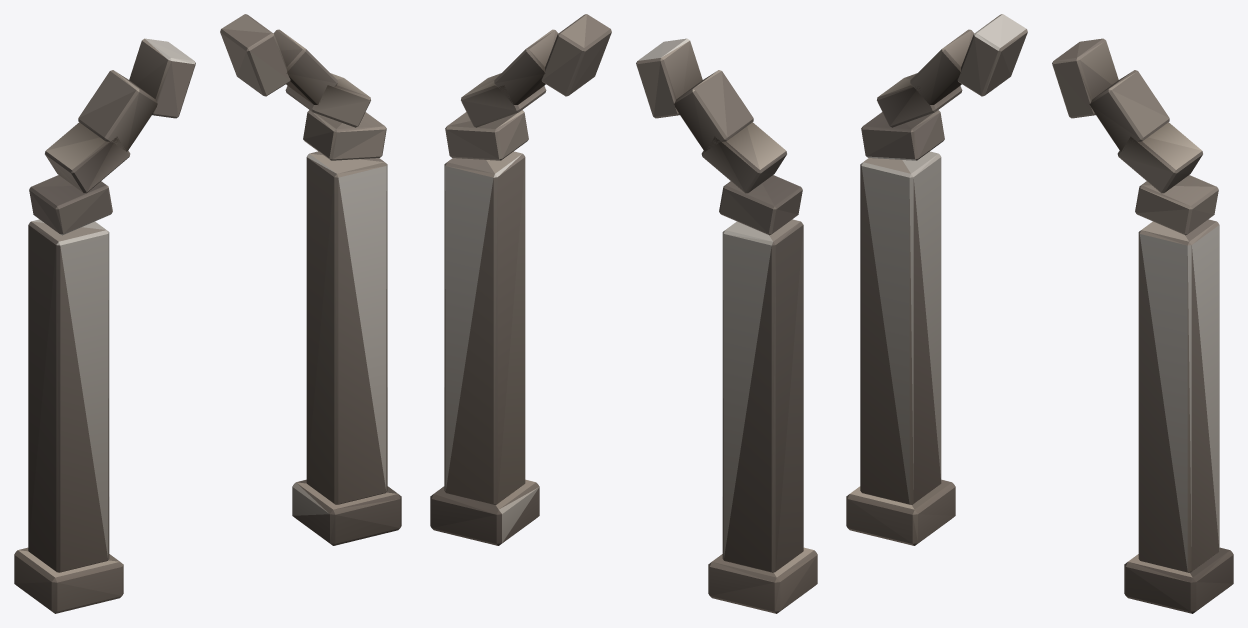
The model's file is ash_arch_a.glb.
3 renders of one model, left to right at view 1: azimuth 30°, elevation 25°; view 2: azimuth 150°, elevation 25°; view 3: azimuth 330°, elevation 25°, orthographic.
Visible parts, largest first — view 1: ca_ash_arch_a; view 2: ca_ash_arch_a; view 3: ca_ash_arch_a.
Part boxes in pixels (<box>): ca_ash_arch_a: <box>14,14,401,613</box>; ca_ash_arch_a: <box>430,14,817,613</box>; ca_ash_arch_a: <box>846,14,1233,613</box>.
Bounding box in the file's own units: 4.03 × 5.74 × 0.828.
1 material, 1 textured.
